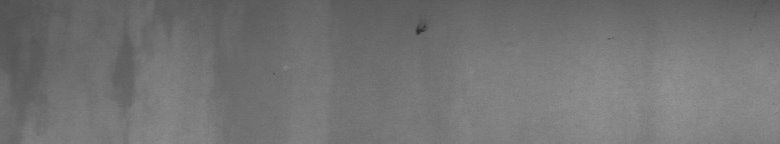fi: (412, 17, 428, 40)
